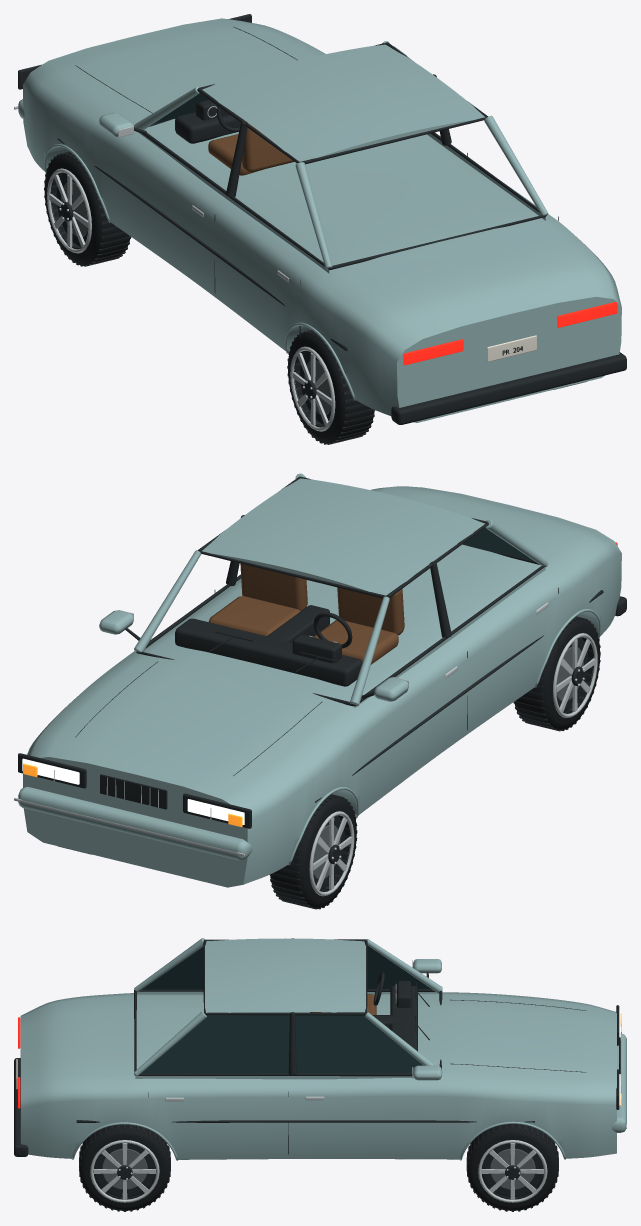
Rendered from traffic-sedan.glb.
3 renders of one model, top to bottom at view 1: azimuth 30°, elevation 25°; view 2: azimuth 150°, elevation 25°; view 3: azimuth 270°, elevation 25°, orthographic. The views are drawn at different scales.
Visible parts, largest first — view 1: Traffic enamel, Traffic polymer, Traffic tire rubber, Traffic satin alloy, Traffic upholstery, Traffic ruby lamps, Dark brake steel, Traffic registration; view 2: Traffic enamel, Traffic polymer, Traffic upholstery, Traffic tire rubber, Traffic satin alloy, Traffic ivory lamps, Dark brake steel, Traffic smoked glazing; view 3: Traffic enamel, Traffic smoked glazing, Traffic polymer, Traffic tire rubber, Traffic satin alloy, Dark brake steel.
Boxes of the visible parts, x1,y1,x2,y2 form: Traffic enamel: [18, 18, 621, 422]; Traffic polymer: [18, 14, 626, 444]; Traffic tire rubber: [44, 152, 374, 443]; Traffic satin alloy: [14, 106, 335, 431]; Traffic upholstery: [208, 120, 294, 175]; Traffic ruby lamps: [403, 302, 617, 365]; Dark brake steel: [61, 182, 331, 415]; Traffic registration: [487, 335, 536, 361]; Traffic enamel: [18, 473, 621, 887]; Traffic polymer: [18, 476, 626, 909]; Traffic upholstery: [208, 563, 404, 664]; Traffic tire rubber: [270, 617, 600, 907]; Traffic satin alloy: [14, 602, 597, 896]; Traffic ivory lamps: [22, 758, 244, 824]; Dark brake steel: [313, 647, 583, 879]; Traffic smoked glazing: [459, 527, 534, 561]; Traffic enamel: [20, 938, 626, 1160]; Traffic smoked glazing: [141, 945, 431, 1073]; Traffic polymer: [14, 938, 620, 1211]; Traffic tire rubber: [79, 1124, 558, 1210]; Traffic satin alloy: [90, 960, 626, 1202]; Dark brake steel: [102, 1148, 535, 1189].
Size of the model in its own units: 2.08 by 1.61 by 4.68.
